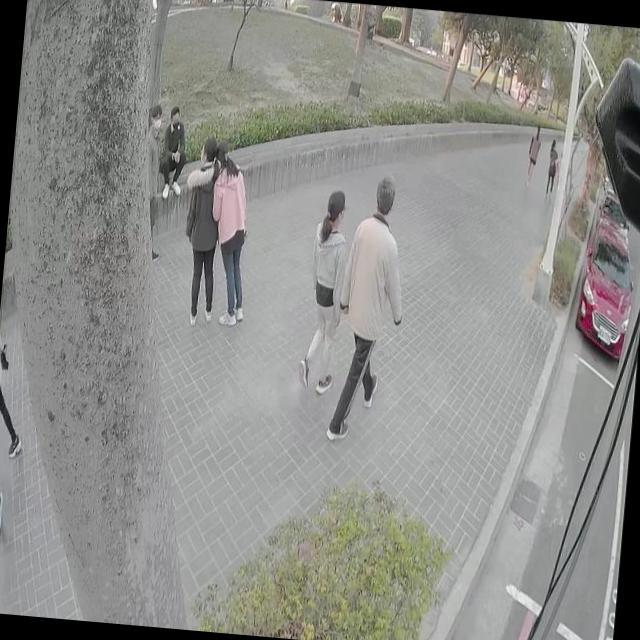person: (327, 172, 413, 444), (297, 188, 348, 392), (203, 139, 256, 323), (176, 132, 227, 318), (136, 105, 166, 242), (156, 109, 188, 192), (525, 122, 542, 184), (542, 137, 558, 196)
